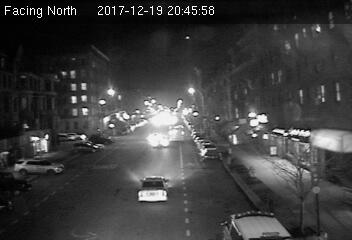car: (136, 177, 170, 202), (200, 147, 222, 164), (150, 135, 170, 148)
police: (218, 209, 293, 240)
